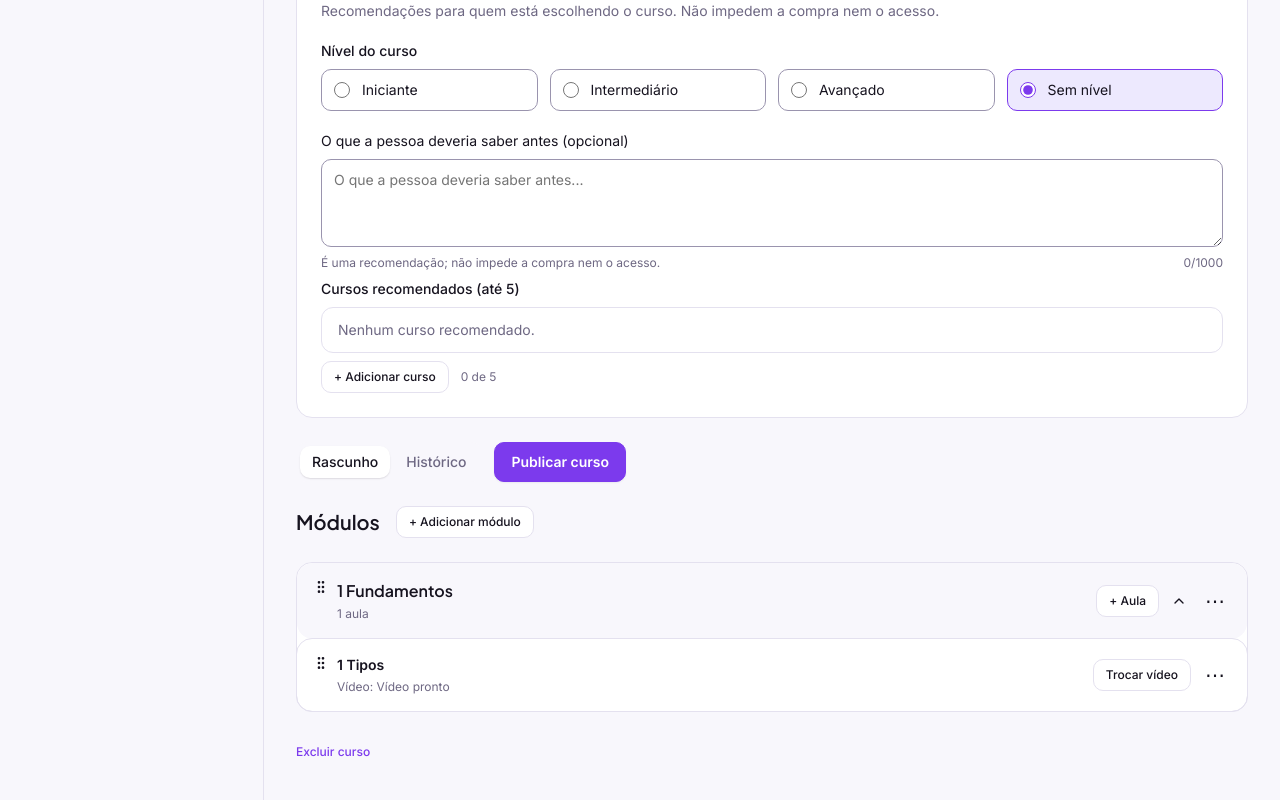
Test case: authoring publish › confirms the displayed revision and optional note and displays publication author and time
(page scrolled)
Click the button "Publicar curso" at (560,462), box top-left (494, 442), bottom-right (626, 482)
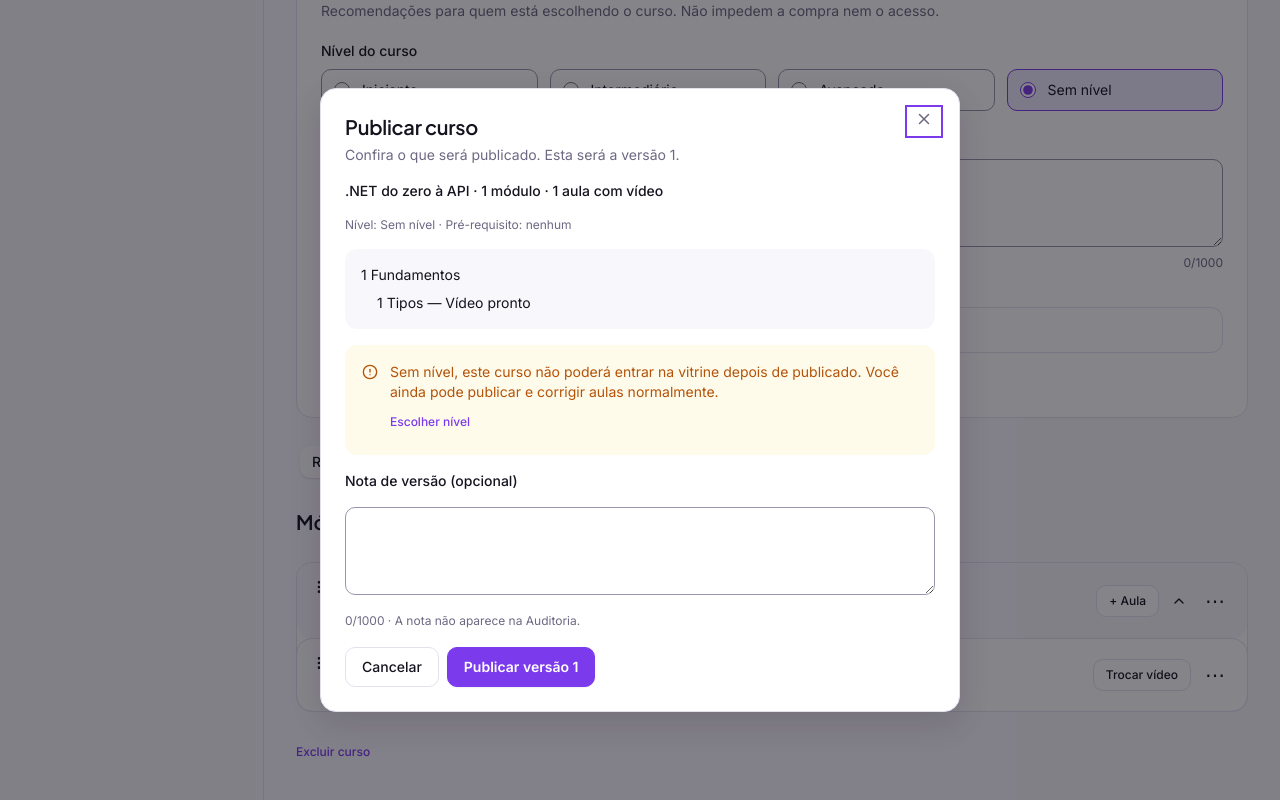
Expected: the dialog does not show "Revisão", top-left (320, 88), bottom-right (960, 712)
Expected: the dialog shows "Confira o que será publicado. Esta será a versão 1.", top-left (345, 146), bottom-right (680, 163)
Type "Primeira versão" into the text box labelled "Nota de versão (opcional)" at (640,551), box top-left (345, 507), bottom-right (935, 595)
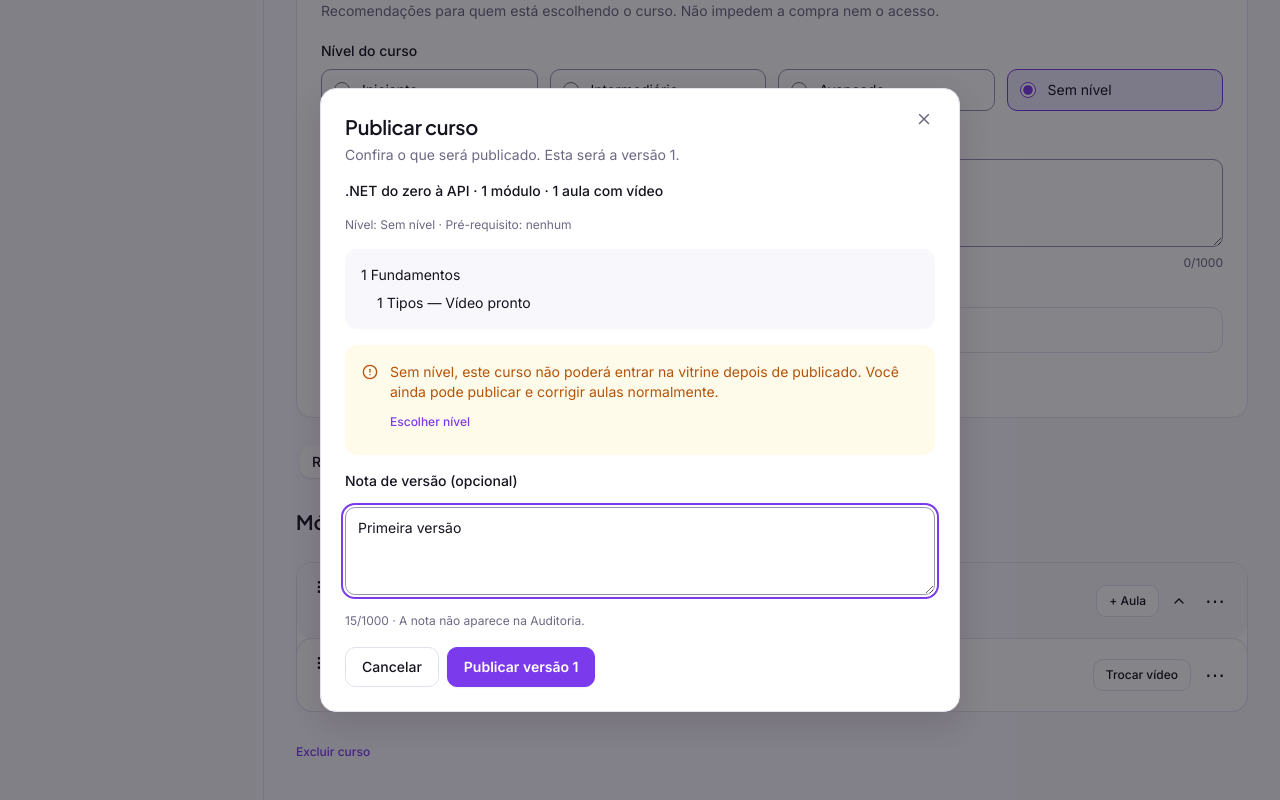
Click the button "Publicar versão 1" at (521,667), box top-left (447, 647), bottom-right (595, 687)
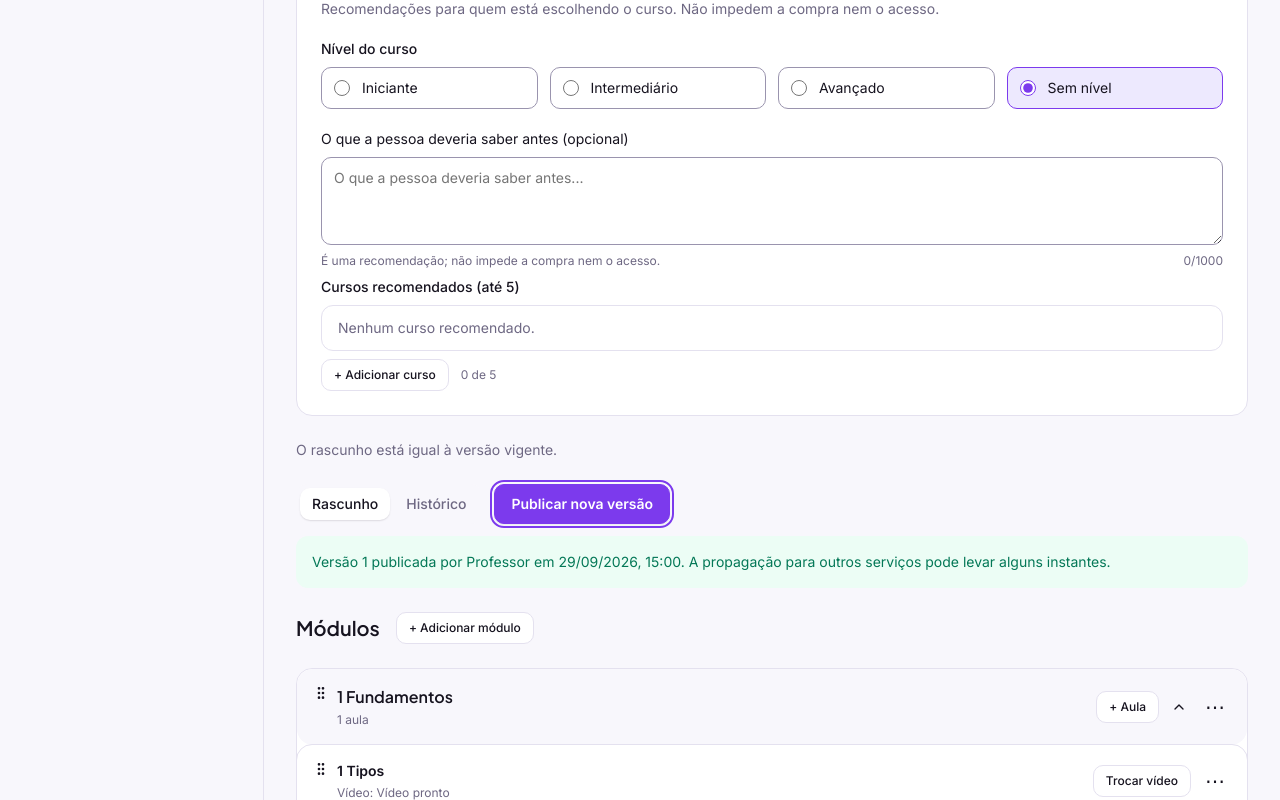
Expected: the text "Versão 1 publicada por Professor" is shown, top-left (296, 536), bottom-right (1248, 588)
Expected: the dialog is gone
